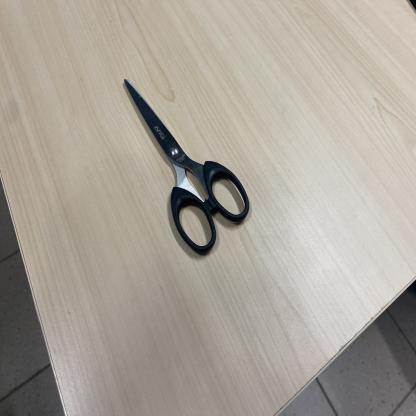scissors: (124, 79, 250, 257)
